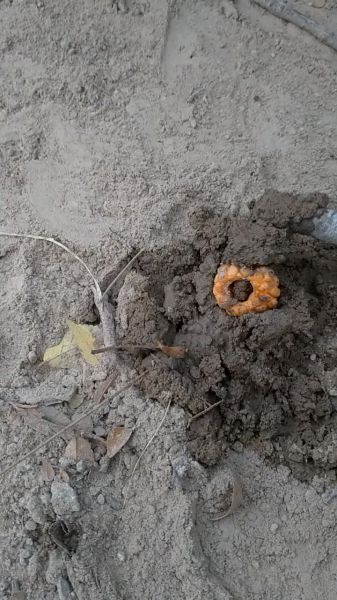eggs: (209, 257, 282, 321)
